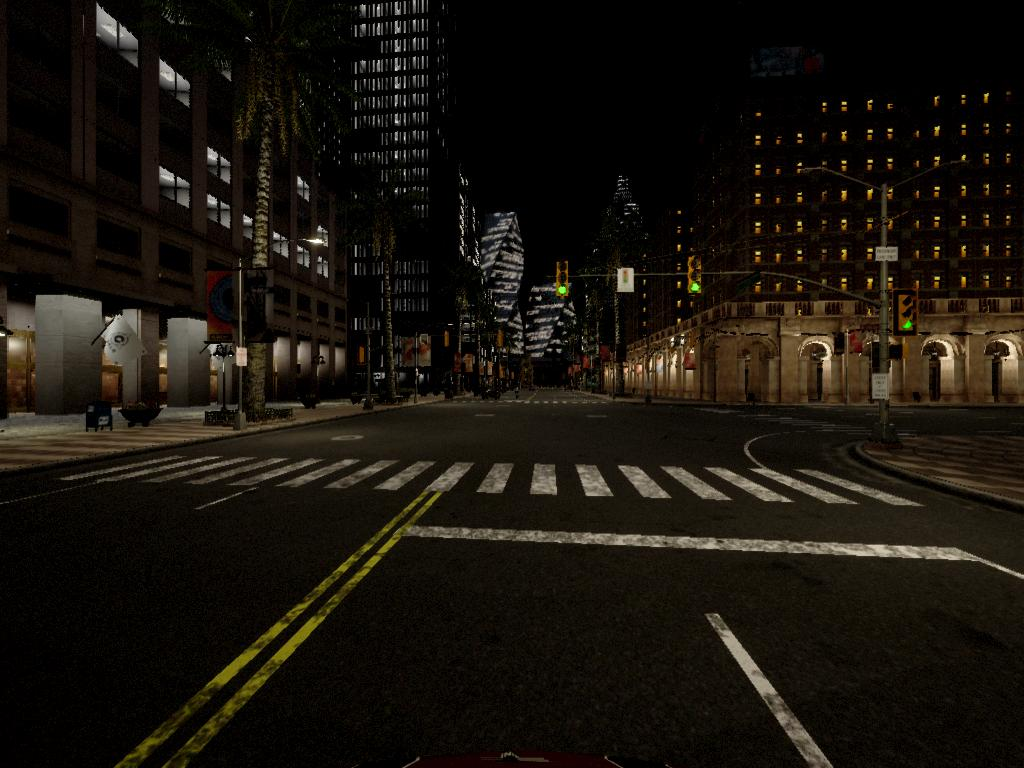traffic_light: (894, 289, 919, 336), (688, 258, 703, 297), (556, 261, 570, 300)
